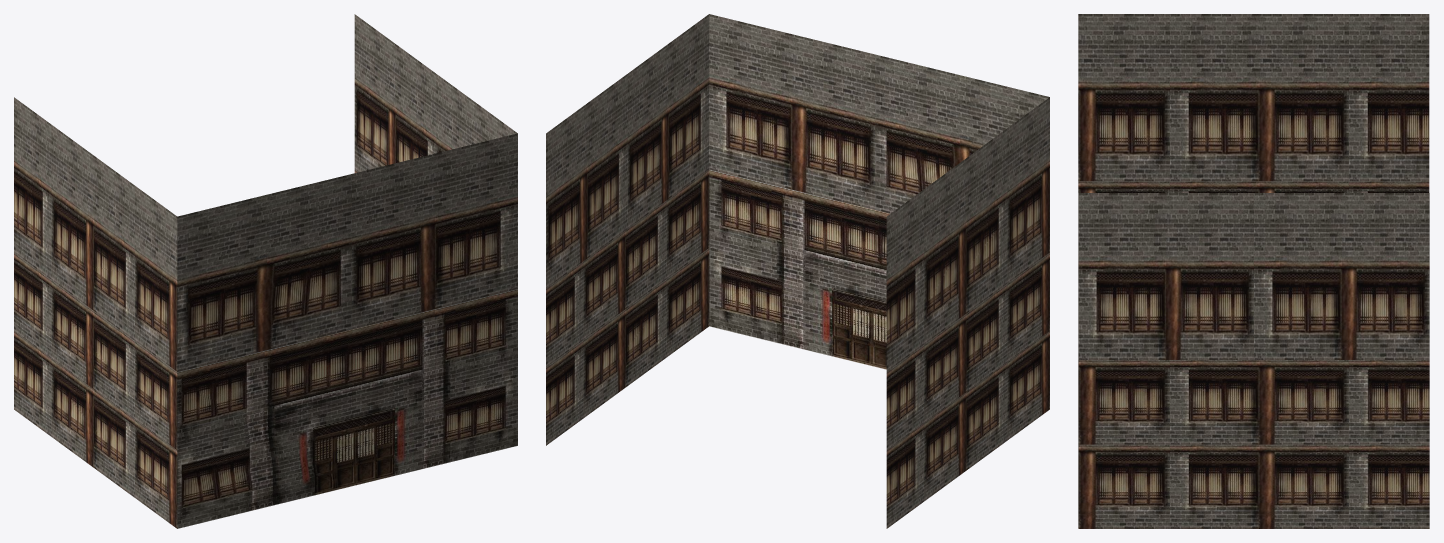
3 views of the same model, side by side, from view 1: azimuth 30°, elevation 25°; view 2: azimuth 150°, elevation 25°; view 3: azimuth 270°, elevation 25° (orthographic). The views are drawn at different scales.
Visible parts, largest first — view 1: Box168; view 2: Box168; view 3: Box168.
Boxes of the visible parts, box(x1,y1,x2,y2) form: Box168: box(14, 14, 517, 528); Box168: box(546, 14, 1049, 528); Box168: box(1078, 14, 1429, 528).
Bounding box in the file's own units: 308 × 270 × 256.
